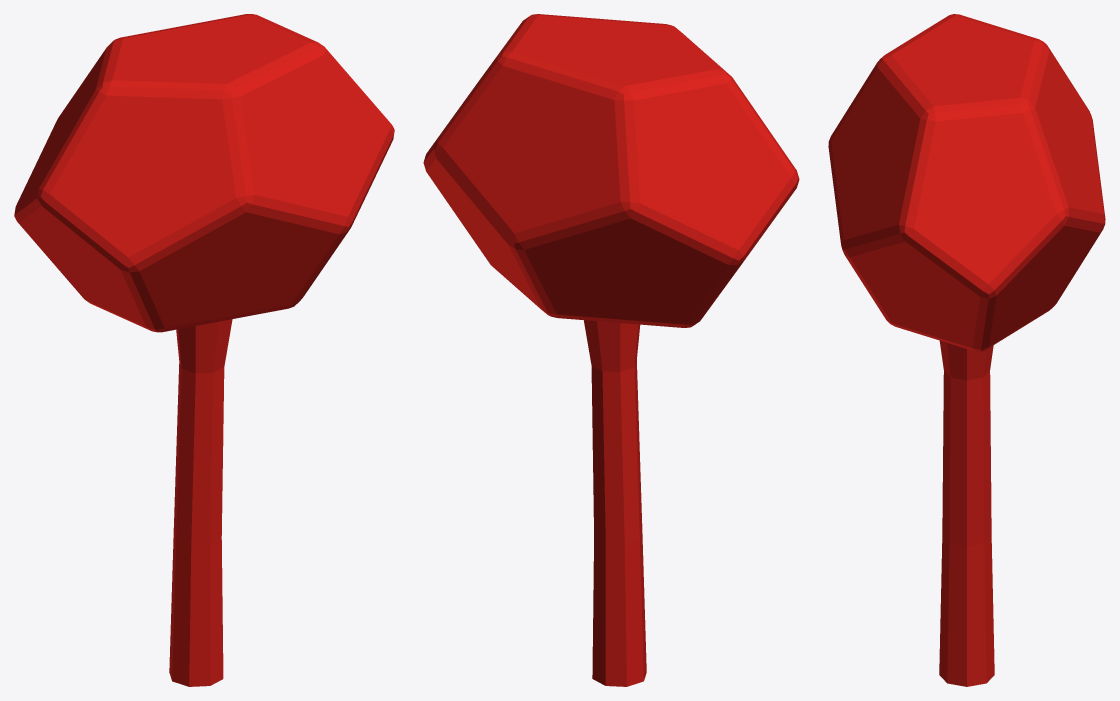
Rendered from gummy_slender.glb.
The picture shows the model from 3 angles, left to right: view 1: azimuth 30°, elevation 25°; view 2: azimuth 150°, elevation 25°; view 3: azimuth 270°, elevation 25°; orthographic projection.
Visible parts, largest first — view 1: Gummy_Slender_Jewel; view 2: Gummy_Slender_Jewel; view 3: Gummy_Slender_Jewel.
Boxes of the visible parts, x1,y1,x2,y2 form: Gummy_Slender_Jewel: (14,14,394,686); Gummy_Slender_Jewel: (423,14,799,686); Gummy_Slender_Jewel: (828,14,1105,686).
Size of the model in its own units: 2.6 by 4.41 by 1.8.
